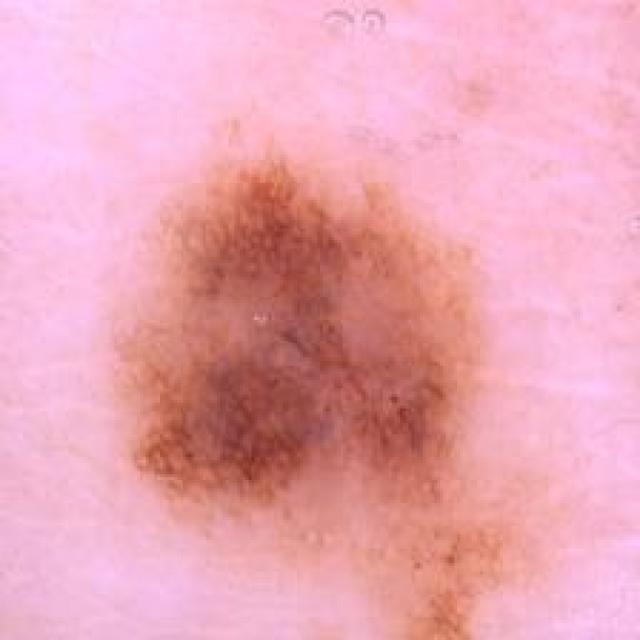Cancer: (95, 147, 582, 626)
